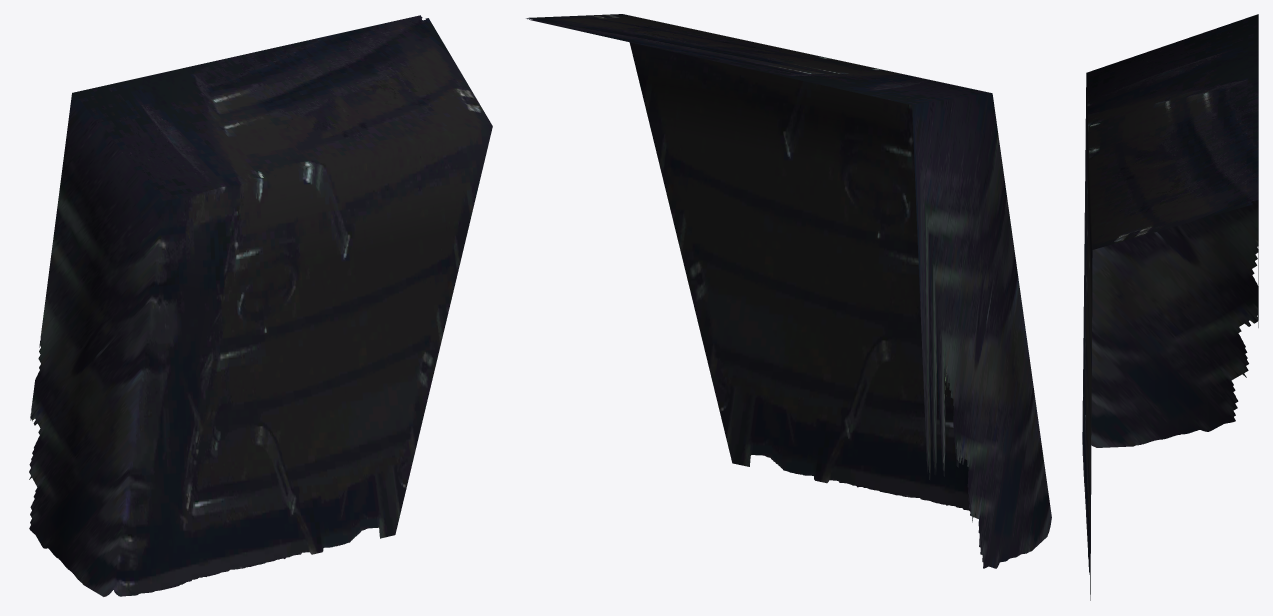
The picture shows the model from 3 angles, left to right: view 1: azimuth 30°, elevation 25°; view 2: azimuth 150°, elevation 25°; view 3: azimuth 270°, elevation 25°; orthographic projection. The views are drawn at different scales.
Parts seen in each view (by area): view 1: mesh_240_371.nr; view 2: mesh_240_371.nr; view 3: mesh_240_371.nr.
Boxes of the visible parts, left/top/right/bottom form: mesh_240_371.nr: left=29, top=15, right=492, bottom=596; mesh_240_371.nr: left=526, top=14, right=1051, bottom=568; mesh_240_371.nr: left=1082, top=14, right=1258, bottom=600.
Size of the model in its own units: 1.1 by 1.13 by 0.3893.
